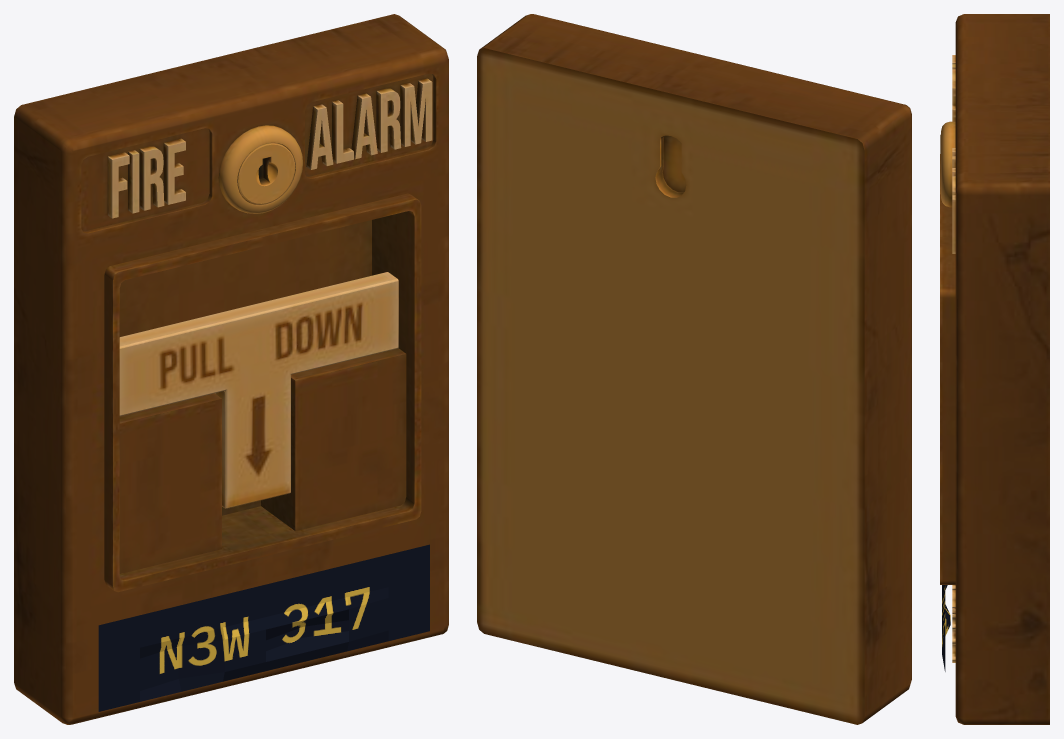
The model's file is nyb_ghost_bell.glb.
3 views of the same model, side by side, from view 1: azimuth 30°, elevation 25°; view 2: azimuth 150°, elevation 25°; view 3: azimuth 270°, elevation 25° (orthographic). The views are drawn at different scales.
Visible parts, largest first — view 1: fire_alarm, stk_lbl_7df9598d0d.png; view 2: fire_alarm; view 3: fire_alarm, stk_lbl_7df9598d0d.png.
Boxes of the visible parts, bbox=[...] form: fire_alarm: bbox=[14, 14, 448, 724]; stk_lbl_7df9598d0d.png: bbox=[98, 544, 429, 711]; fire_alarm: bbox=[477, 14, 911, 724]; fire_alarm: bbox=[940, 14, 1049, 724]; stk_lbl_7df9598d0d.png: bbox=[942, 585, 950, 671].
Bounding box in the file's own units: 0.0995 × 0.1436 × 0.0264.
2 materials, 2 textured.
